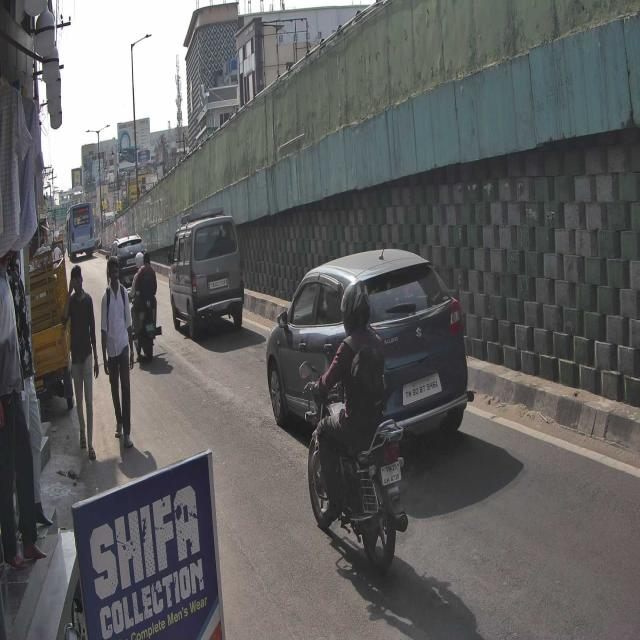single_rider: (298, 276, 412, 580)
